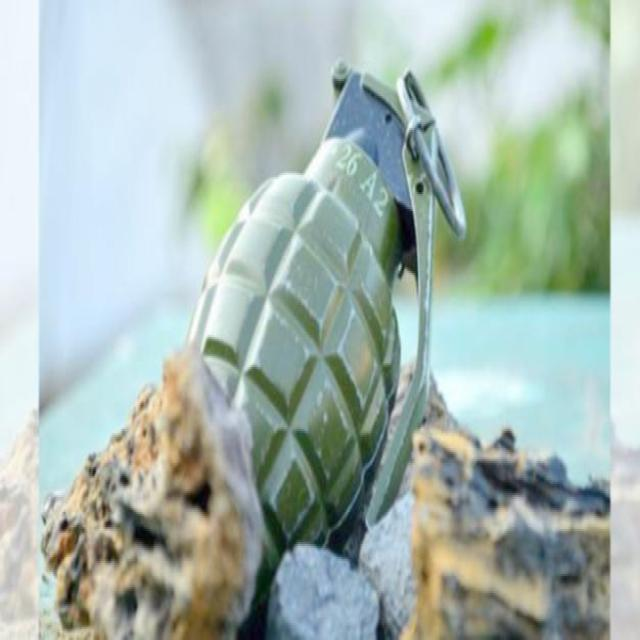grenade: (185, 59, 468, 591)
